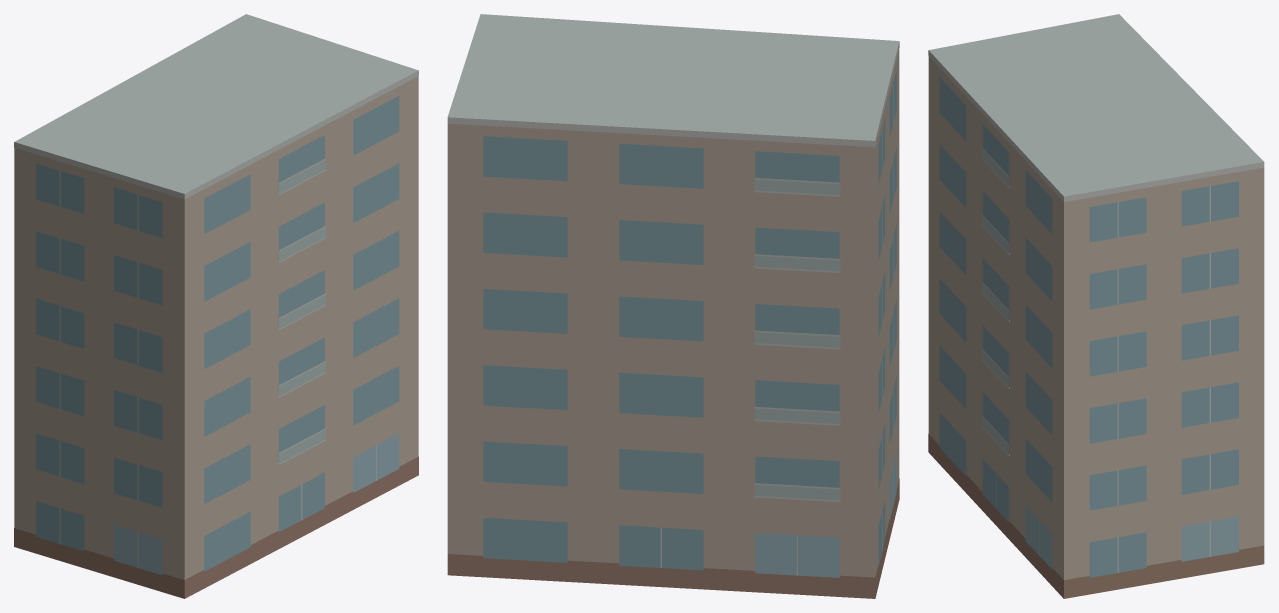
Rendered from survey-upis-32707214.glb.
3 renders of one model, left to right at view 1: azimuth 30°, elevation 25°; view 2: azimuth 150°, elevation 25°; view 3: azimuth 270°, elevation 25°, orthographic. The views are drawn at different scales.
Parts seen in each view (by area): view 1: survey-upis-32707214.tmp; view 2: survey-upis-32707214.tmp; view 3: survey-upis-32707214.tmp.
Boxes of the visible parts, x1,y1,x2,y2 form: survey-upis-32707214.tmp: (14, 14, 418, 598); survey-upis-32707214.tmp: (447, 14, 899, 598); survey-upis-32707214.tmp: (928, 14, 1264, 598).
Size of the model in its own units: 17.34 by 17.8 by 13.48.
